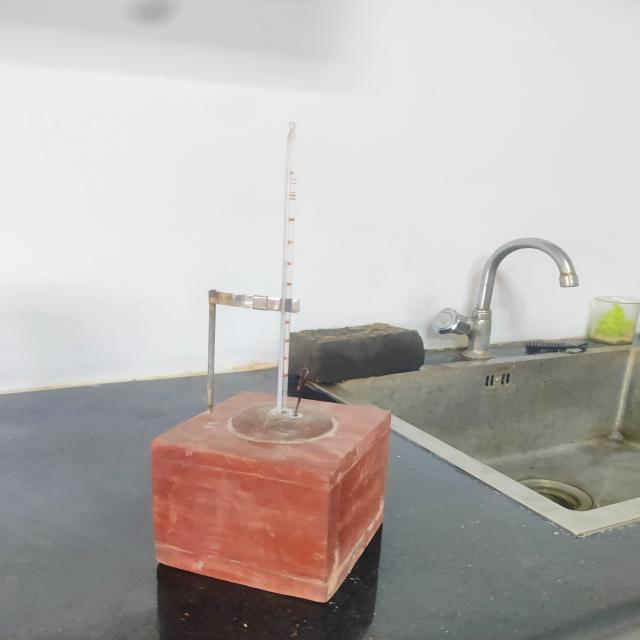Calorimeter: (132, 96, 409, 623)
